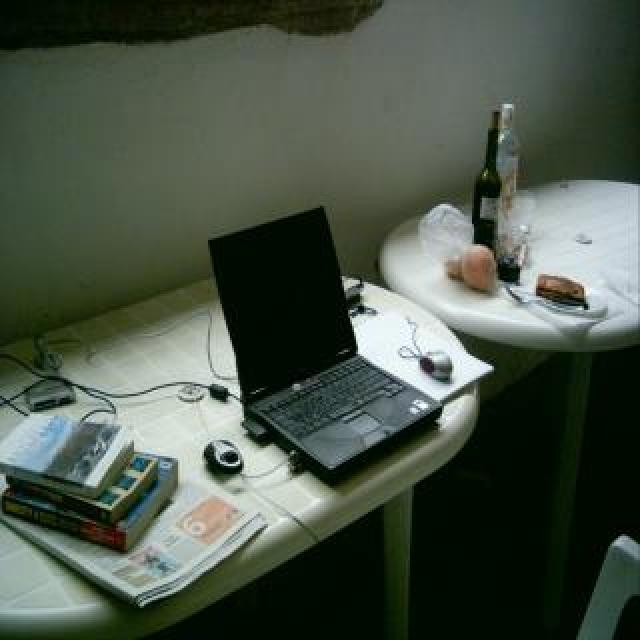laptop_computer: (220, 202, 418, 463)
mouse: (192, 437, 253, 490)
